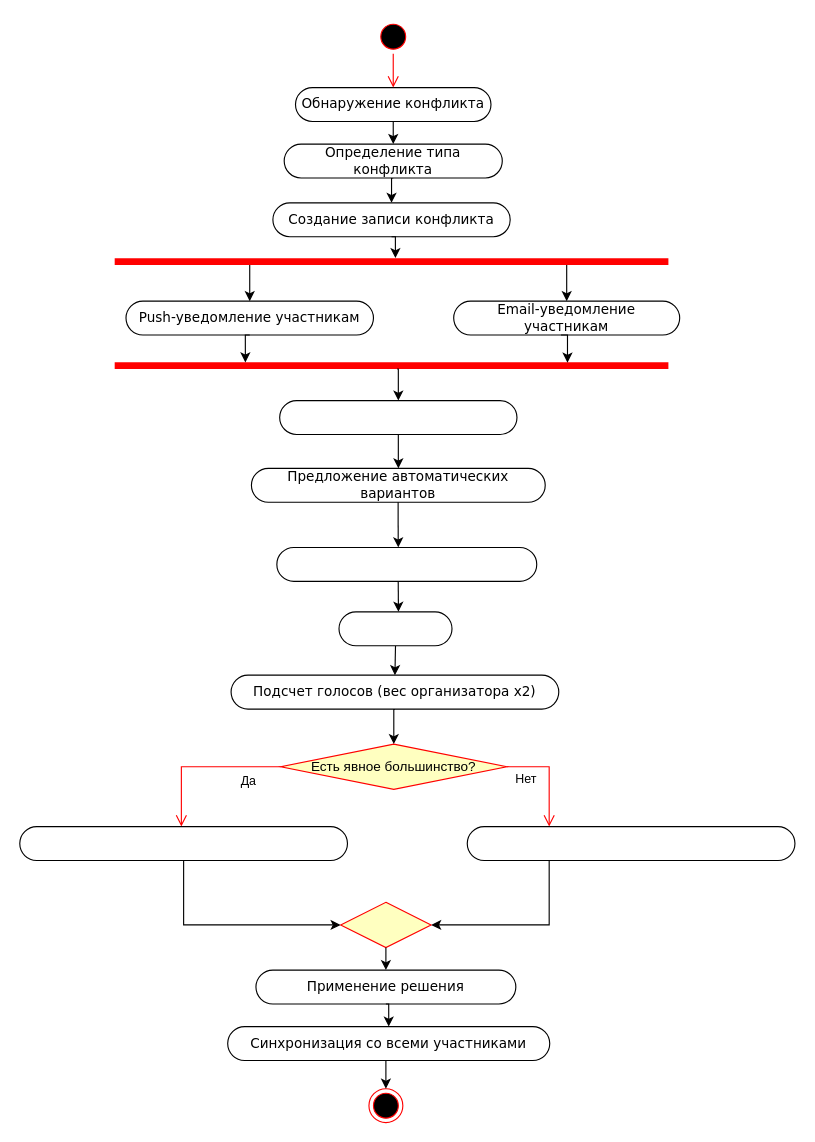
Image size: 815x1142. Some labels were removed from this diagram. The centre of each missing label's shape, as x and y in pixels:
"Выбор варианта с большинством голосов" goes at point 183,842.
"Голосование" goes at point 395,628.
"Применение правила по умолчанию" goes at point 630,842.
"Сбор предложений от участников" goes at point 406,563.
"Установка дедлайна (24 часа)" goes at point 398,416.
